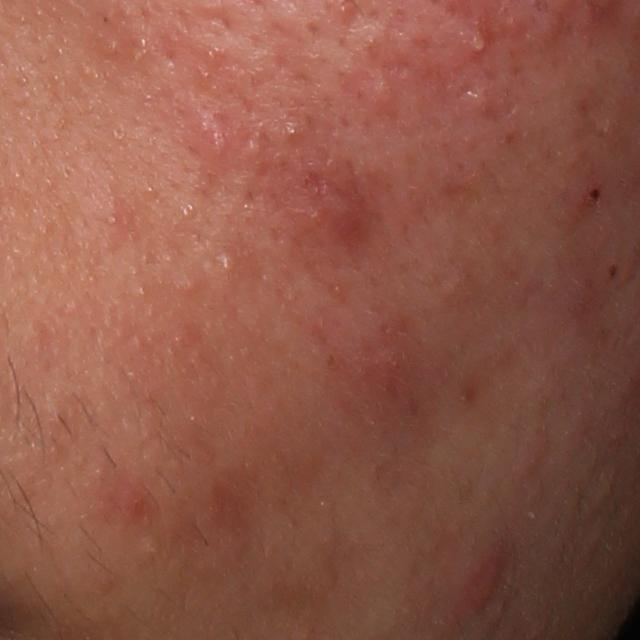comedo: (178, 273, 201, 298), (140, 536, 161, 563), (218, 252, 240, 277), (285, 120, 305, 143)
nevus: (607, 262, 621, 280)
papule: (447, 549, 504, 622), (317, 189, 369, 241), (200, 120, 238, 160)
pustule: (461, 26, 490, 58)
